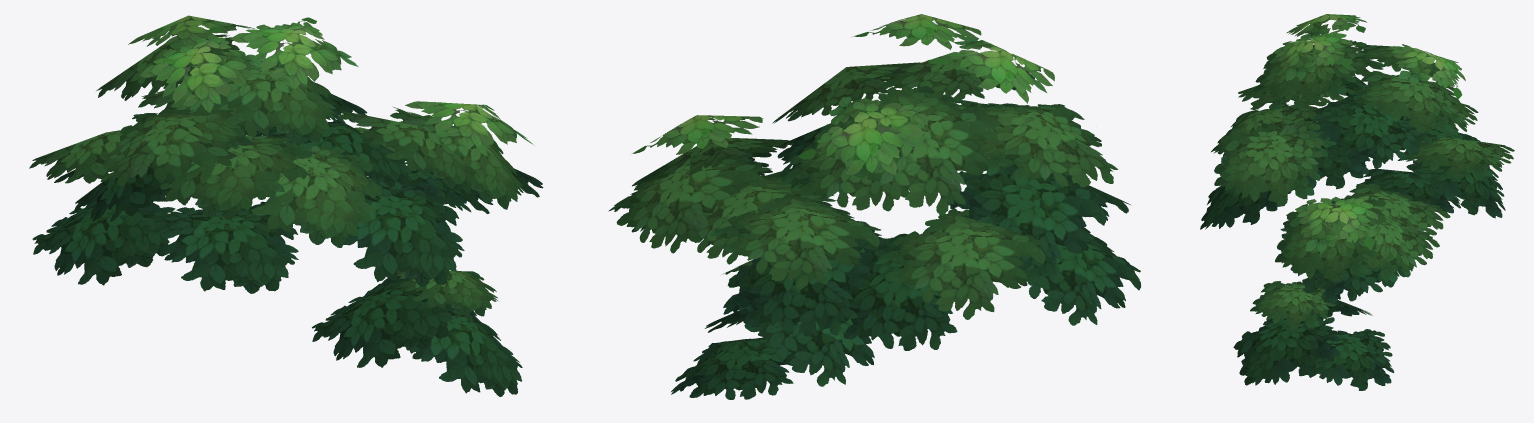
Rendered from scene_shenmisenlin_tree03.FBX.
3 views of the same model, side by side, from view 1: azimuth 30°, elevation 25°; view 2: azimuth 150°, elevation 25°; view 3: azimuth 270°, elevation 25° (orthographic). The views are drawn at different scales.
Visible parts, largest first — view 1: scene_shenmisenlin_tree03; view 2: scene_shenmisenlin_tree03; view 3: scene_shenmisenlin_tree03.
Boxes of the visible parts, left/top/right/bottom form: scene_shenmisenlin_tree03: left=29, top=15, right=543, bottom=396; scene_shenmisenlin_tree03: left=608, top=14, right=1141, bottom=399; scene_shenmisenlin_tree03: left=1200, top=14, right=1514, bottom=390.
Bounding box in the file's own units: 1258 × 924 × 940.
